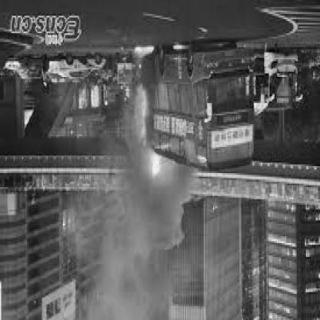Fire: (150, 143, 168, 189), (171, 46, 187, 56)
